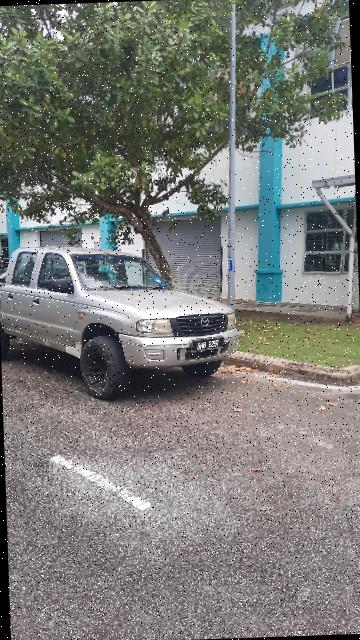License_Plate: (192, 339, 231, 354)
car: (1, 223, 261, 403)
